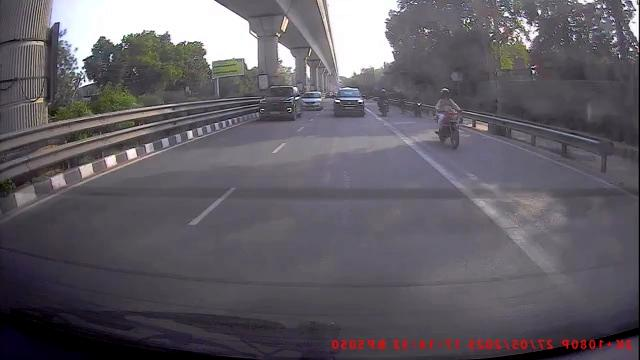motorcycle_with_helmet: (434, 86, 463, 151)
